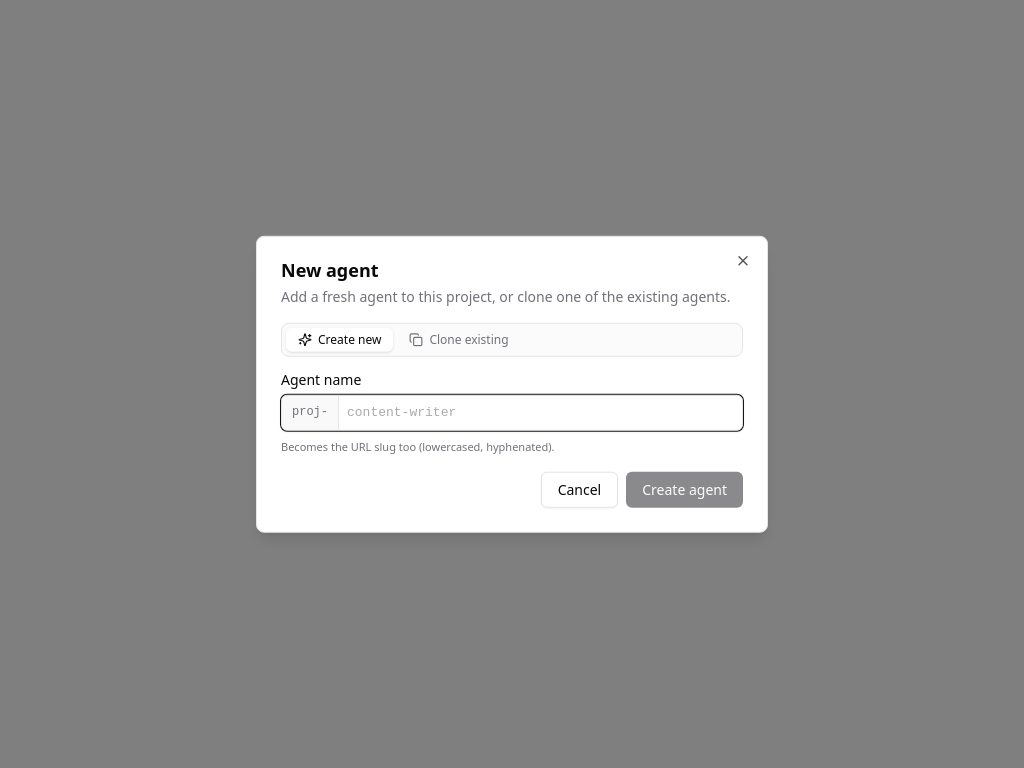
CreateAgentDialog — clone mode › renders a loading indicator while fetching the catalog
Click the button "Clone existing" at (459, 340), box left=397, top=328, right=521, bottom=352
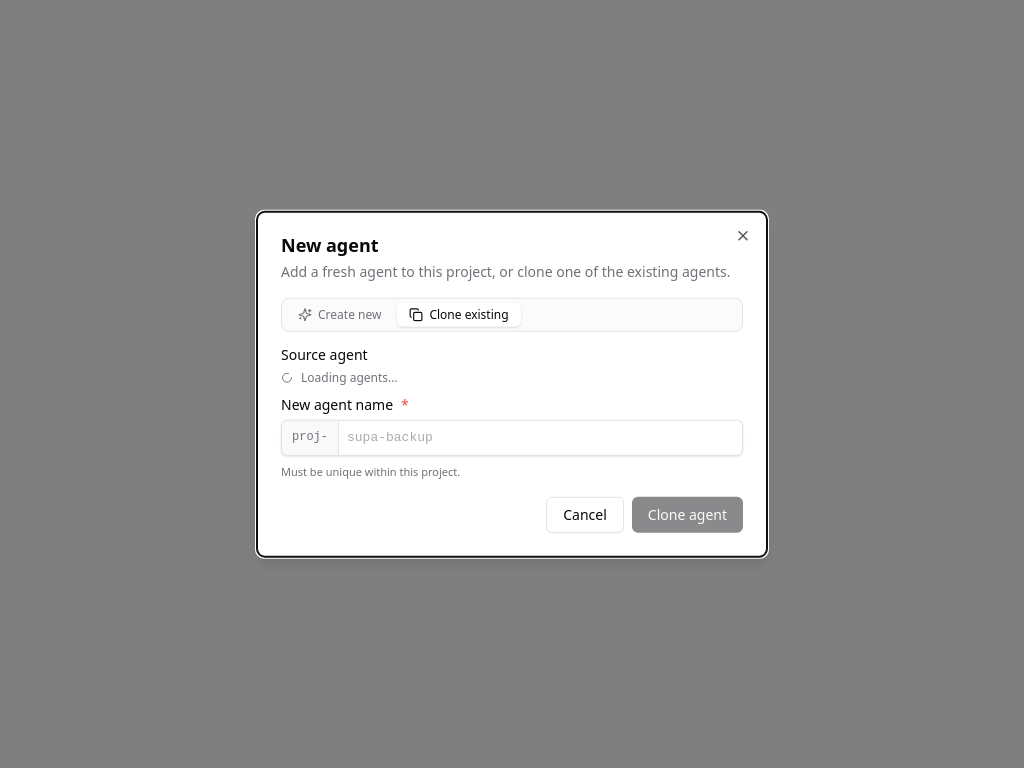
Check: the text "Loading agents…" is shown, box left=281, top=369, right=398, bottom=386
